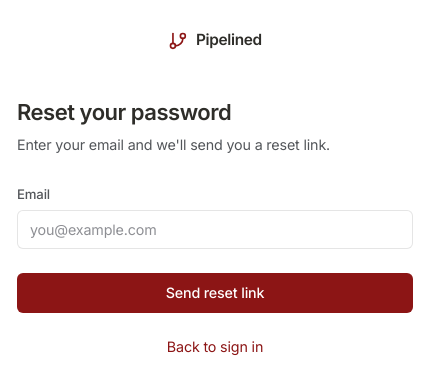
Test: ForgotPassword › should show error on server failure
Type "user@example.com" into the field labelled "Email" at [215, 230], box [17,210,413,249]
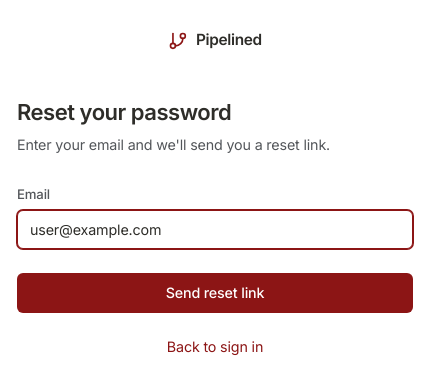
Click the button "Send reset link" at [215, 293], box [17,273,413,313]
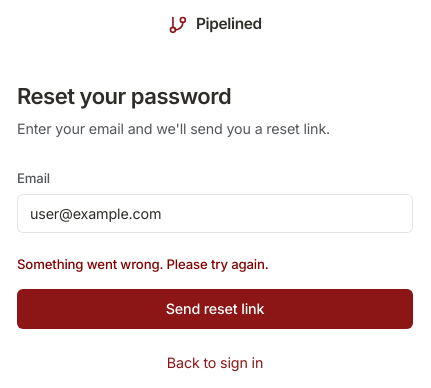
Check: the message shows "Something went wrong", box [17,256,269,272]
